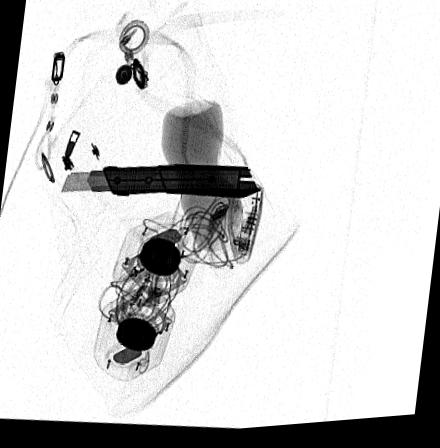Knife: (59, 165, 262, 203)
